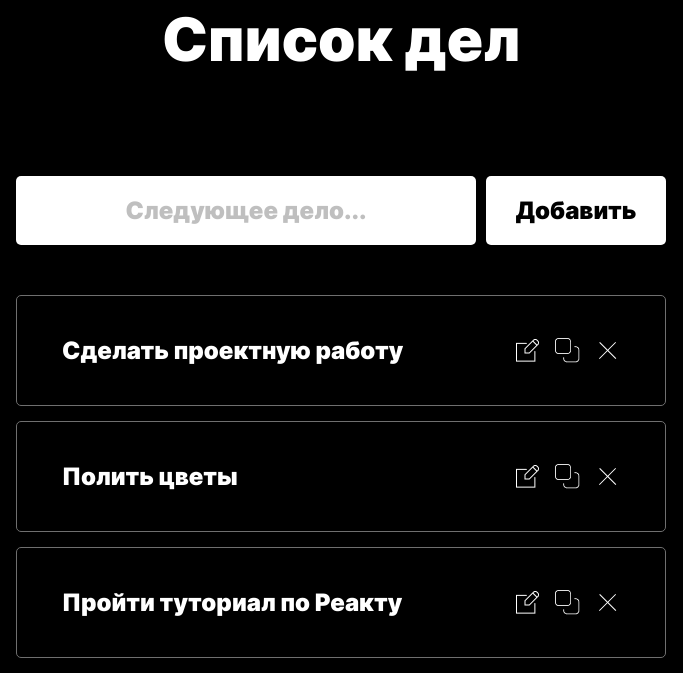
Test: редактирует текст задачи и сохраняет изменения
Click the button named "Редактировать" next to "Пройти туториал по Реакту" at (528, 602), box x1=515 y1=590 x2=540 y2=615
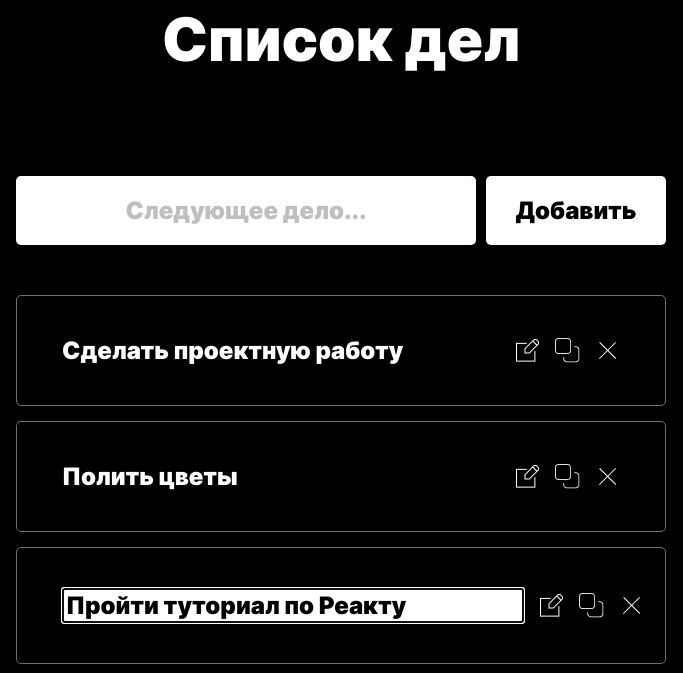
Replace the text in the 2nd field with "Обновленная задача" at (293, 606), box x1=62 y1=588 x2=524 y2=623
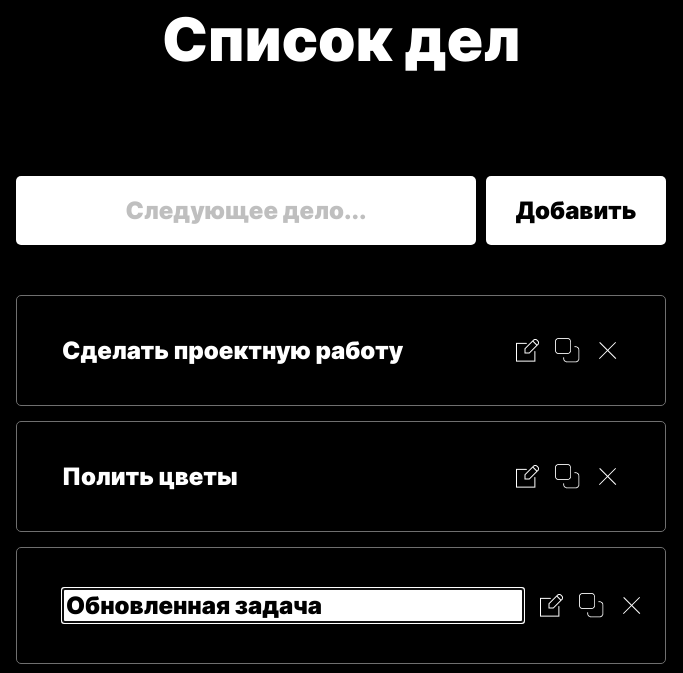
Leave the 2nd field, box x1=62 y1=588 x2=524 y2=623
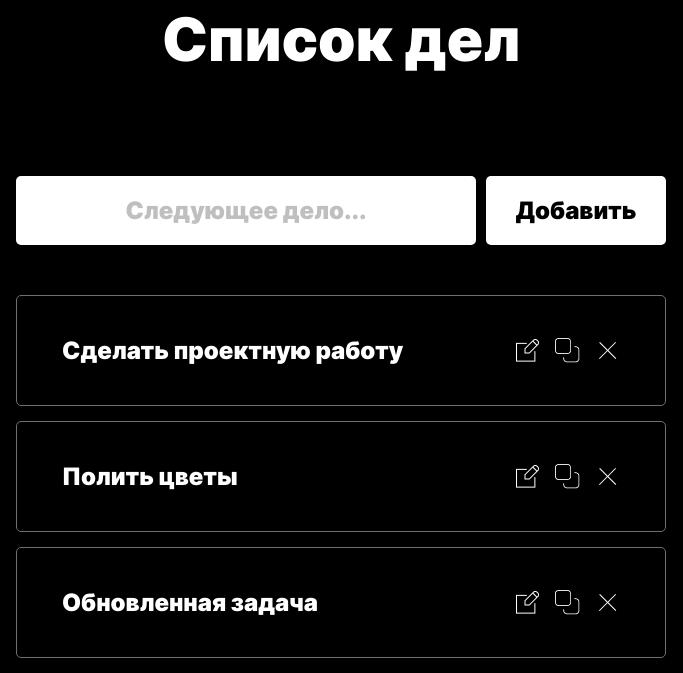
Check: the text "Обновленная задача" is shown, box x1=62 y1=588 x2=318 y2=617
